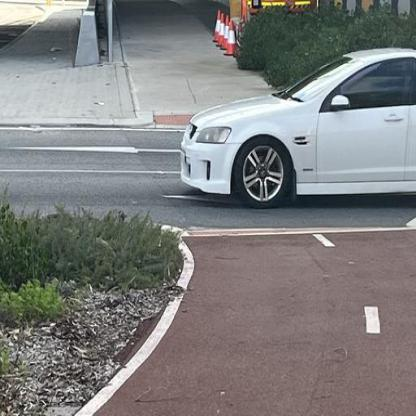Tire: (230, 135, 294, 209)
